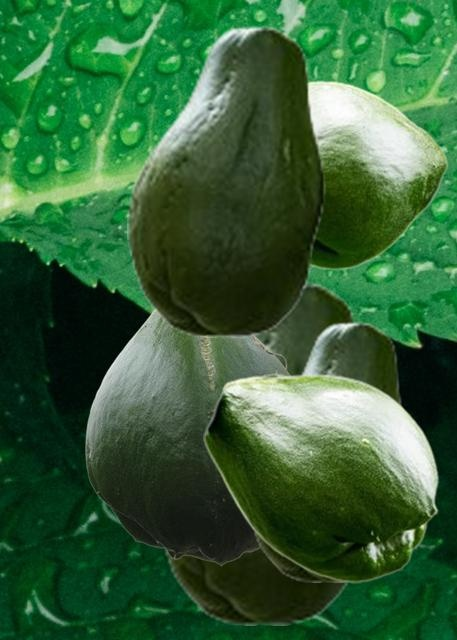sayote: (159, 281, 359, 624), (127, 25, 324, 336), (85, 310, 290, 565), (203, 373, 438, 582), (246, 321, 407, 581), (310, 80, 447, 269)
